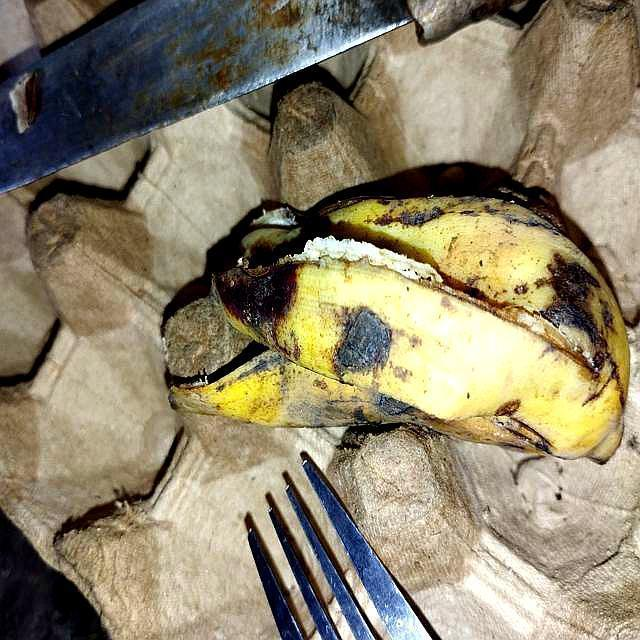Biodegradable: (161, 189, 631, 461)
